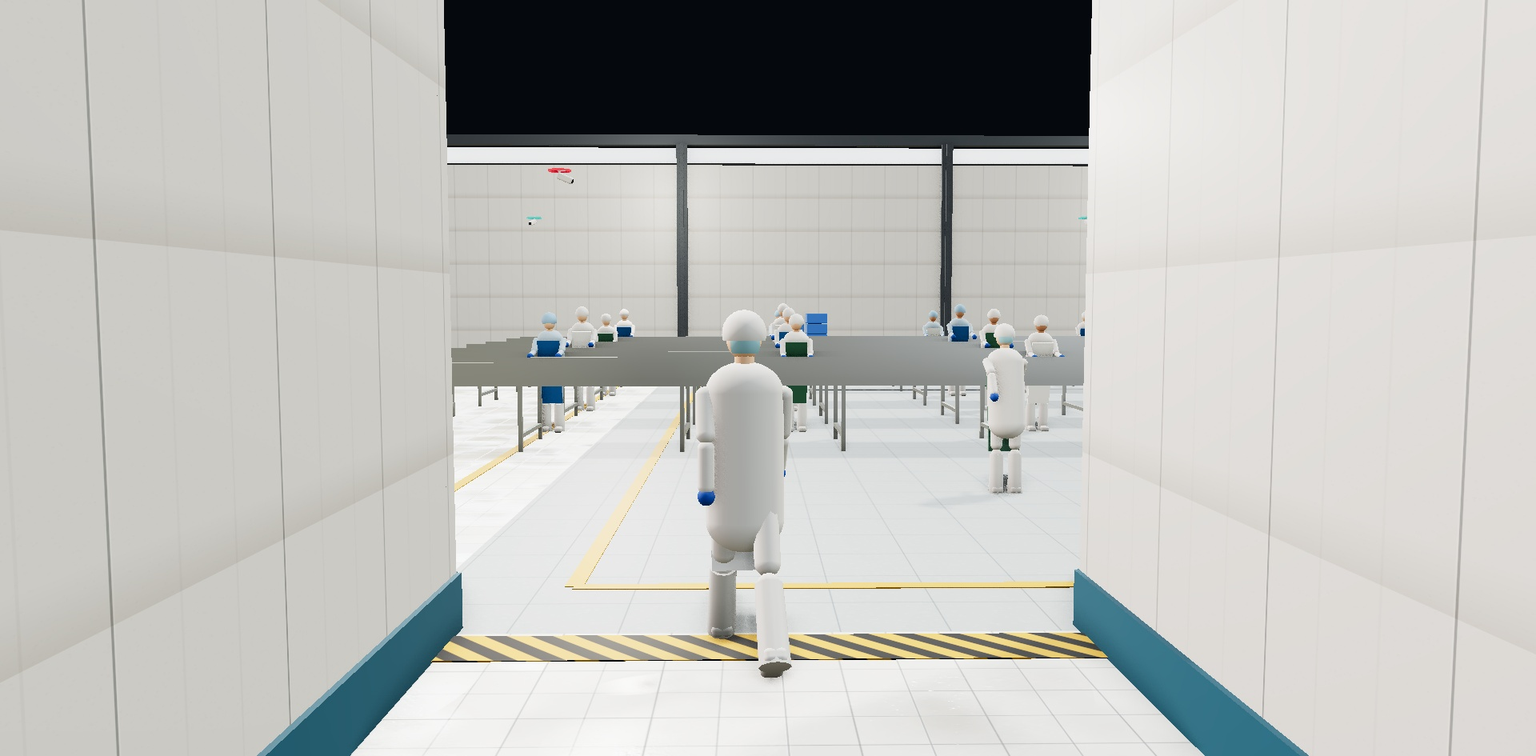apron: (710, 385, 774, 571), (985, 361, 1021, 452), (1027, 342, 1054, 405), (537, 340, 563, 405), (785, 341, 808, 405), (982, 332, 1005, 387), (572, 331, 594, 387), (779, 332, 799, 387), (950, 325, 969, 374), (775, 325, 792, 374), (598, 333, 615, 377), (617, 326, 632, 367), (925, 328, 940, 367), (772, 327, 786, 367)
glove: (768, 459, 787, 486), (696, 486, 716, 508), (989, 391, 1000, 404), (1008, 378, 1018, 389), (526, 352, 534, 360), (1031, 354, 1039, 361), (1058, 354, 1066, 361), (555, 352, 562, 360), (781, 354, 787, 361), (808, 354, 814, 361), (984, 343, 991, 349), (563, 342, 570, 348), (1008, 343, 1014, 349), (588, 342, 594, 348), (775, 343, 780, 349), (799, 343, 804, 349), (951, 334, 956, 340), (972, 334, 977, 340), (771, 335, 776, 340), (792, 335, 797, 340), (592, 342, 597, 346), (611, 342, 616, 346), (925, 335, 930, 339), (769, 334, 773, 339), (786, 334, 790, 339), (612, 334, 616, 339), (629, 334, 633, 339), (942, 335, 946, 339)
hairnet: (719, 309, 769, 343), (991, 321, 1018, 340), (1032, 313, 1051, 327), (540, 311, 559, 325), (789, 312, 804, 326), (986, 307, 1002, 319), (574, 305, 590, 317), (782, 306, 796, 318), (777, 302, 790, 313), (953, 303, 967, 313), (600, 312, 612, 322), (619, 308, 630, 317), (928, 310, 939, 318), (774, 309, 784, 317)
person: (687, 308, 800, 696), (970, 321, 1041, 500), (1017, 313, 1067, 436), (525, 311, 572, 437), (779, 312, 815, 436), (974, 307, 1015, 414), (562, 305, 601, 415), (774, 306, 805, 414), (943, 303, 978, 398), (770, 302, 797, 398), (591, 312, 621, 398), (920, 309, 947, 386), (611, 308, 637, 386), (768, 309, 790, 386)
